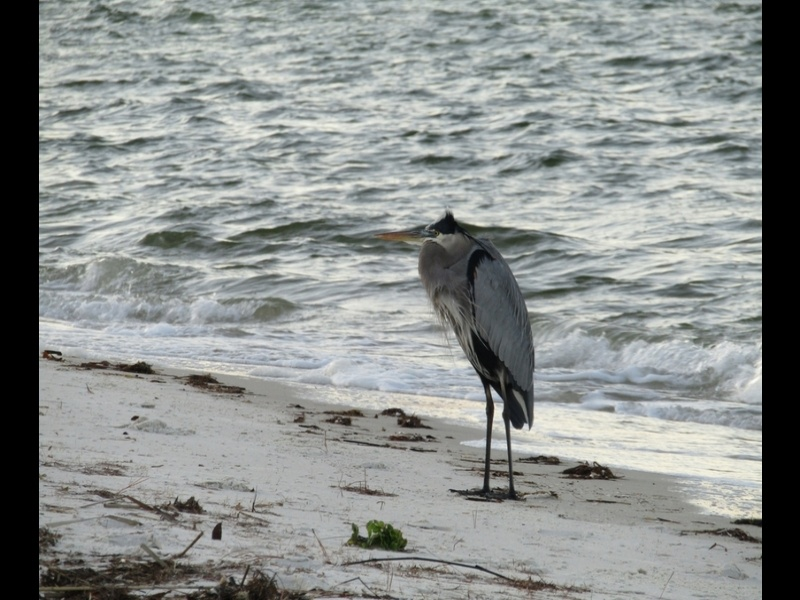heron: (372, 207, 533, 506)
